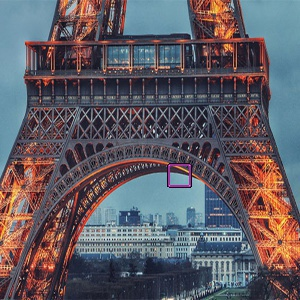square: (166, 162, 192, 188)
